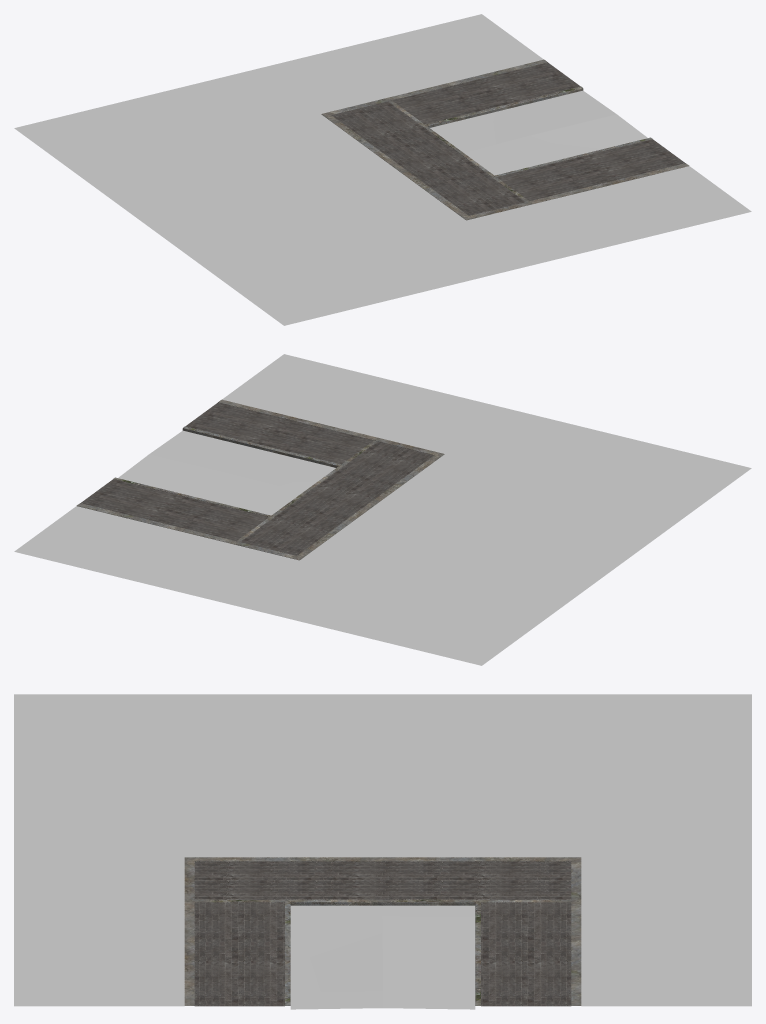
The model's file is Ground_Road_End.fbx.
The picture shows the model from 3 angles, top to bottom: view 1: azimuth 30°, elevation 25°; view 2: azimuth 150°, elevation 25°; view 3: azimuth 270°, elevation 25°; orthographic projection. The views are drawn at different scales.
Parts seen in each view (by area): view 1: Ground_Road_End; view 2: Ground_Road_End; view 3: Ground_Road_End.
Boxes of the visible parts, box(x1,y1,x2,y2) form: Ground_Road_End: box(14, 14, 751, 325); Ground_Road_End: box(14, 354, 751, 665); Ground_Road_End: box(14, 694, 751, 1009).
Size of the model in its own units: 2000 by 10.75 by 2000.
